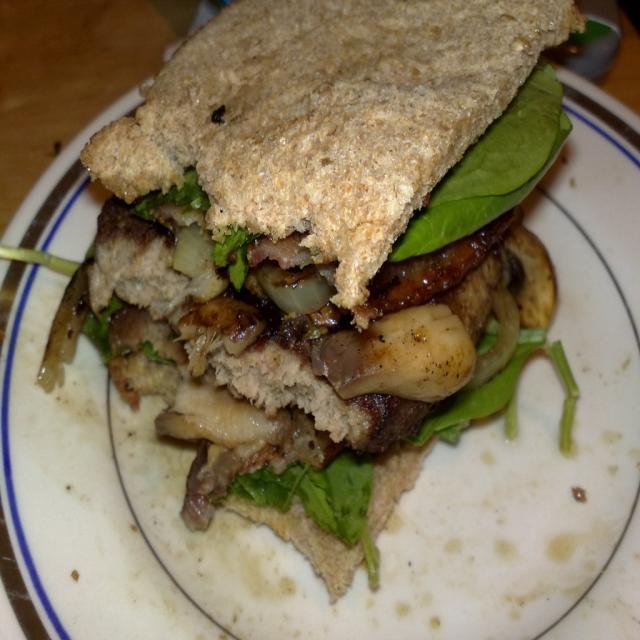Sandwich: (72, 0, 588, 601)
